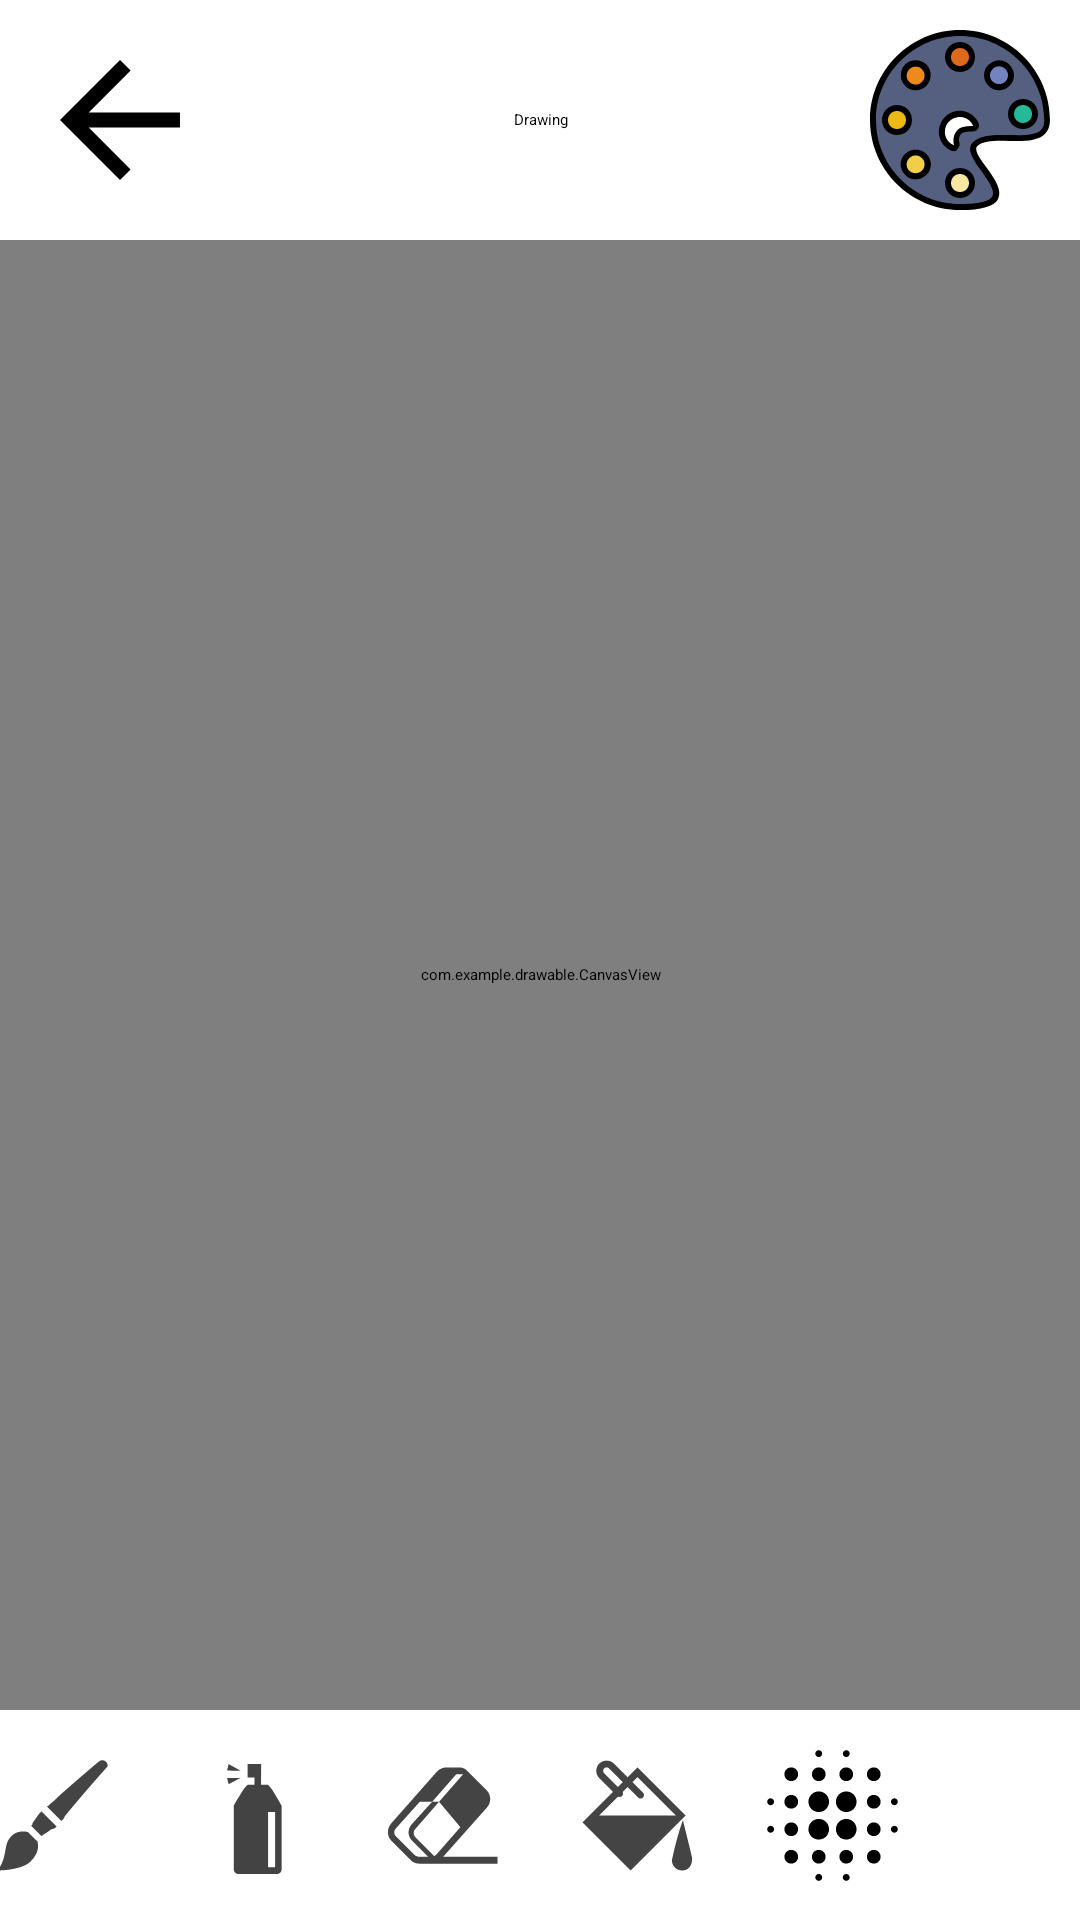

Where icons sit on this 1080px x 1920px app screen, as (x1, y1, x2, y2):
Back: (60, 60, 180, 180)
Blur: (767, 1750, 898, 1881)
Eraser: (388, 1767, 498, 1864)
Paintcan: (582, 1760, 692, 1871)
Palette: (870, 30, 1050, 210)
Spraycan: (227, 1764, 282, 1874)
